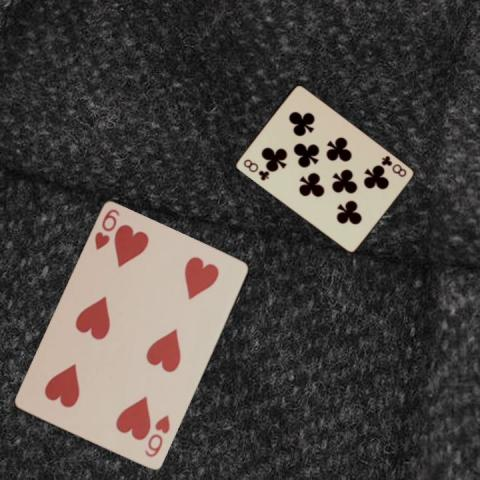6h: (141, 412, 172, 459), (92, 206, 122, 252)
8c: (240, 156, 271, 182), (378, 152, 408, 178)
